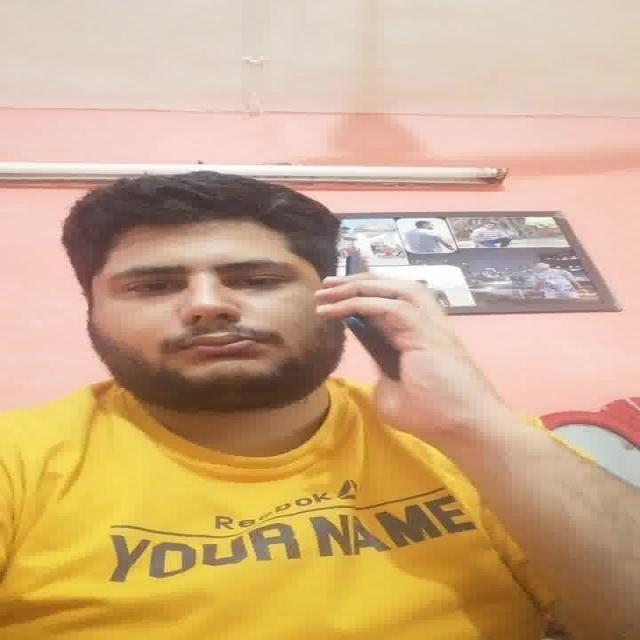Phone: (342, 252, 402, 384)
